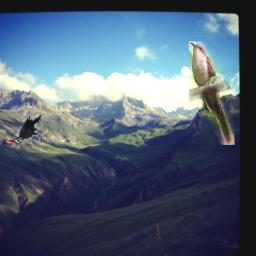Cuckoo: (190, 42, 236, 146)
Woodpecker: (7, 114, 43, 144)
